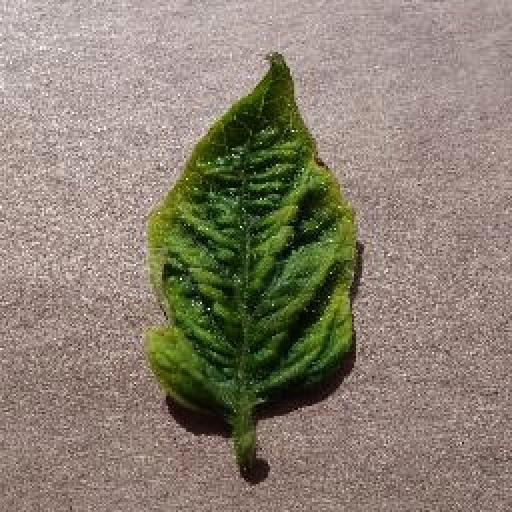disease_tomato: (140, 50, 358, 412)
